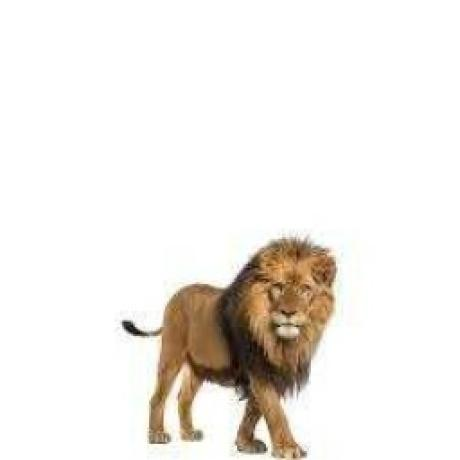Lion: (118, 235, 340, 460)
